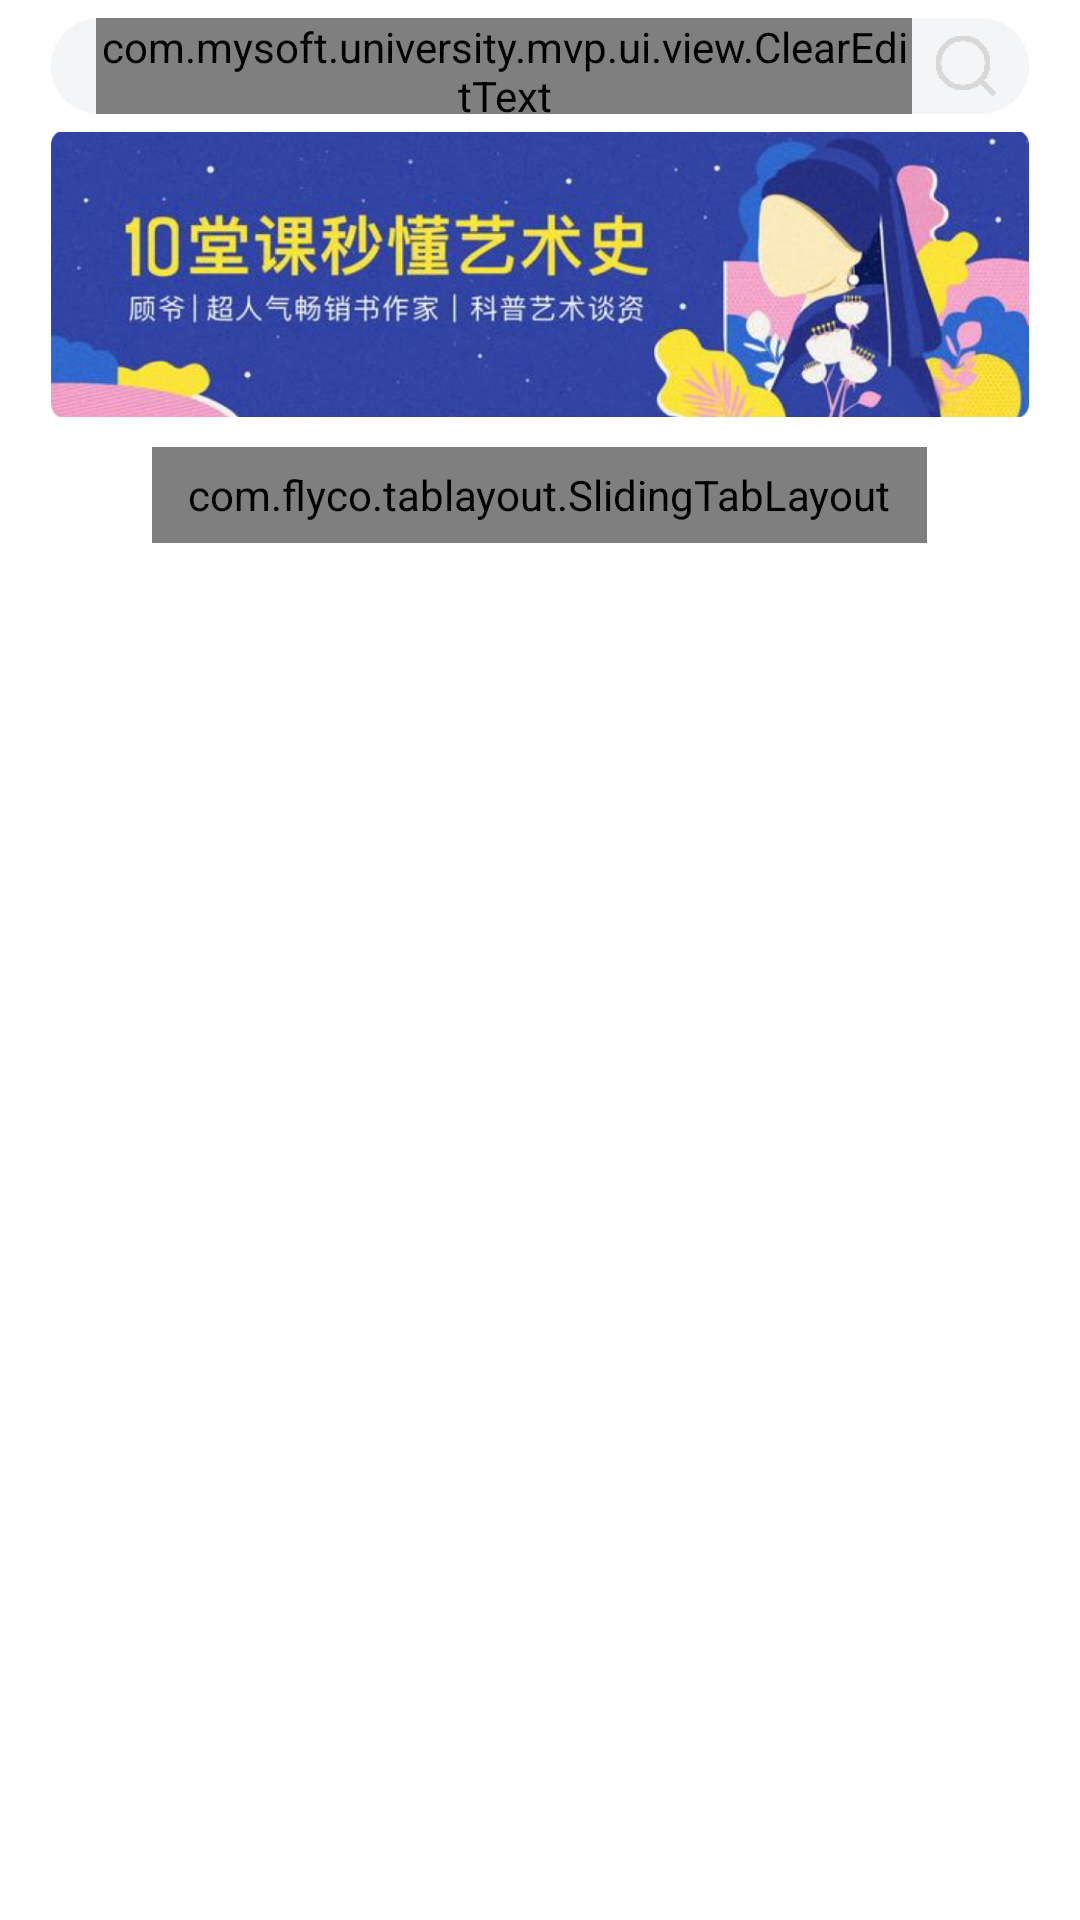

Named icons in this screenshot (1080px x 1920px) and their bounding boxes, (x1, y1, x2, y2):
search: (936, 36, 996, 96)
